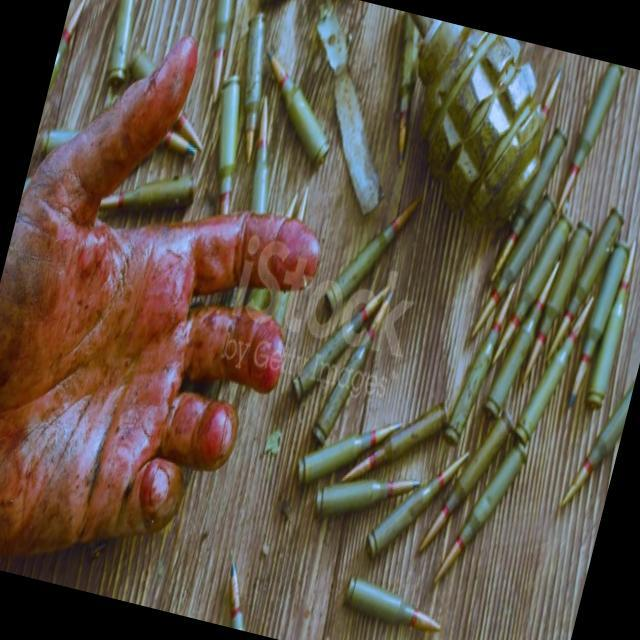grenade: (386, 26, 572, 239)
